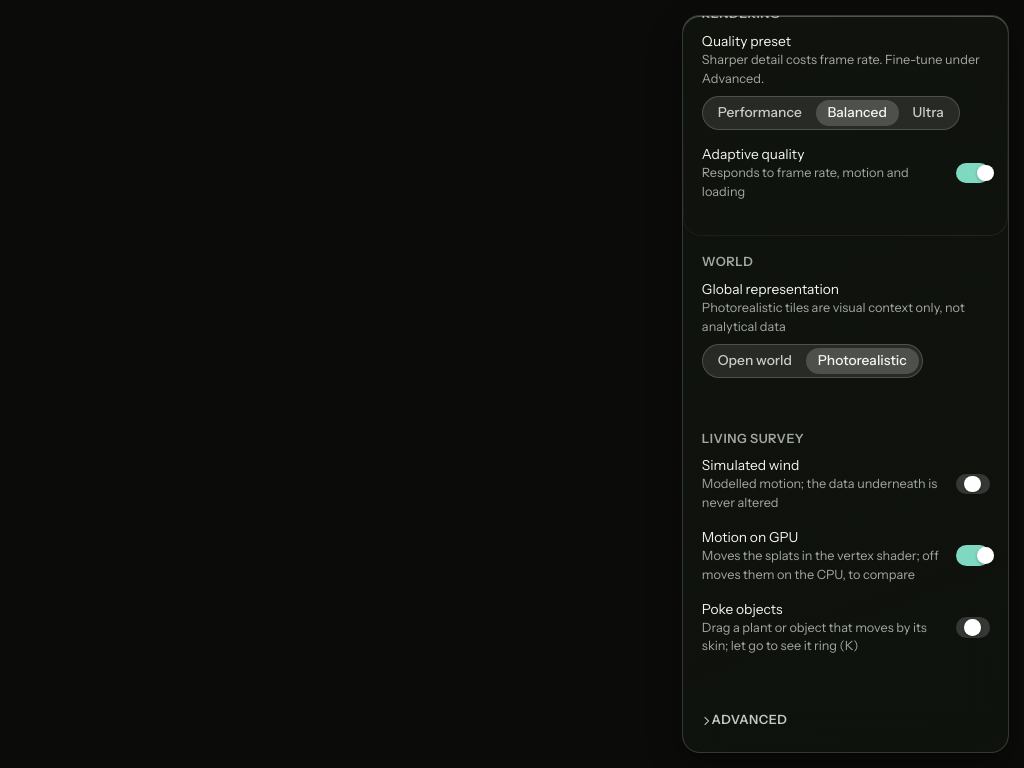
Test: Settings › Advanced › shows the renderer the page address chose, and a choice here ends it
The width and height of the screenshot is (1024, 768).
(page scrolled)
Click the heading "Advanced" at (749, 720), box [712,712,787,727]
(page scrolled)
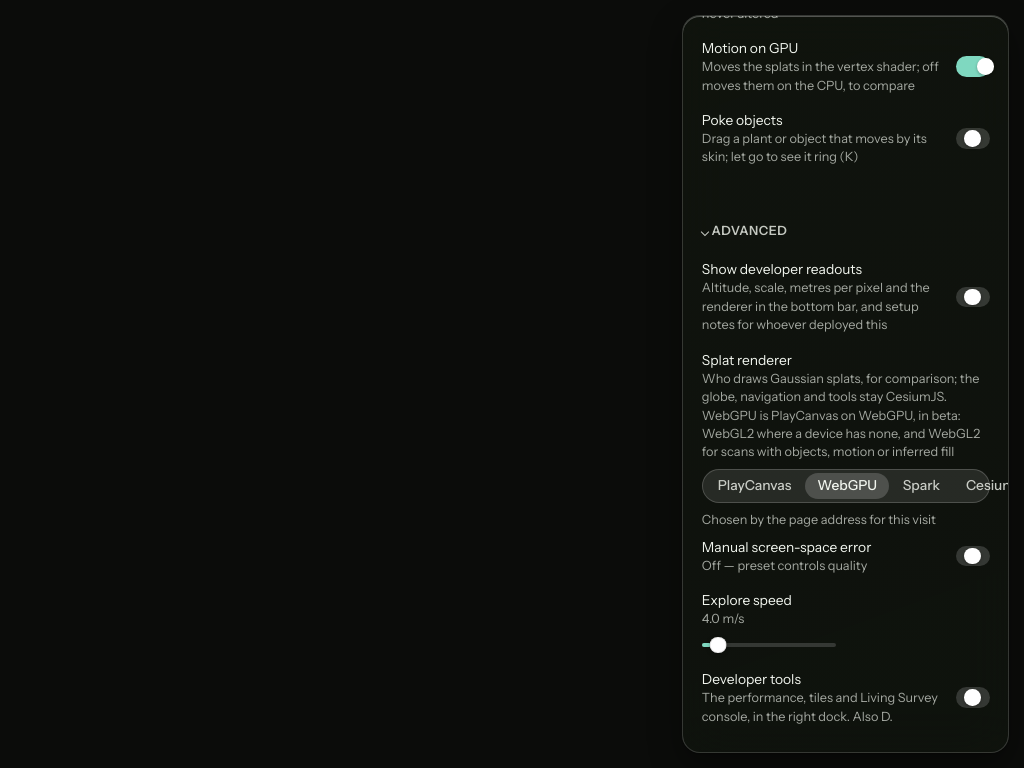
Result: the text with test id "splat-renderer-now" reads "Chosen by the page address for this visit" at [702,512,936,527]
Click the radio button with aria-label "Draw splats with PlayCanvas" at (755, 486), box [706,473,803,499]
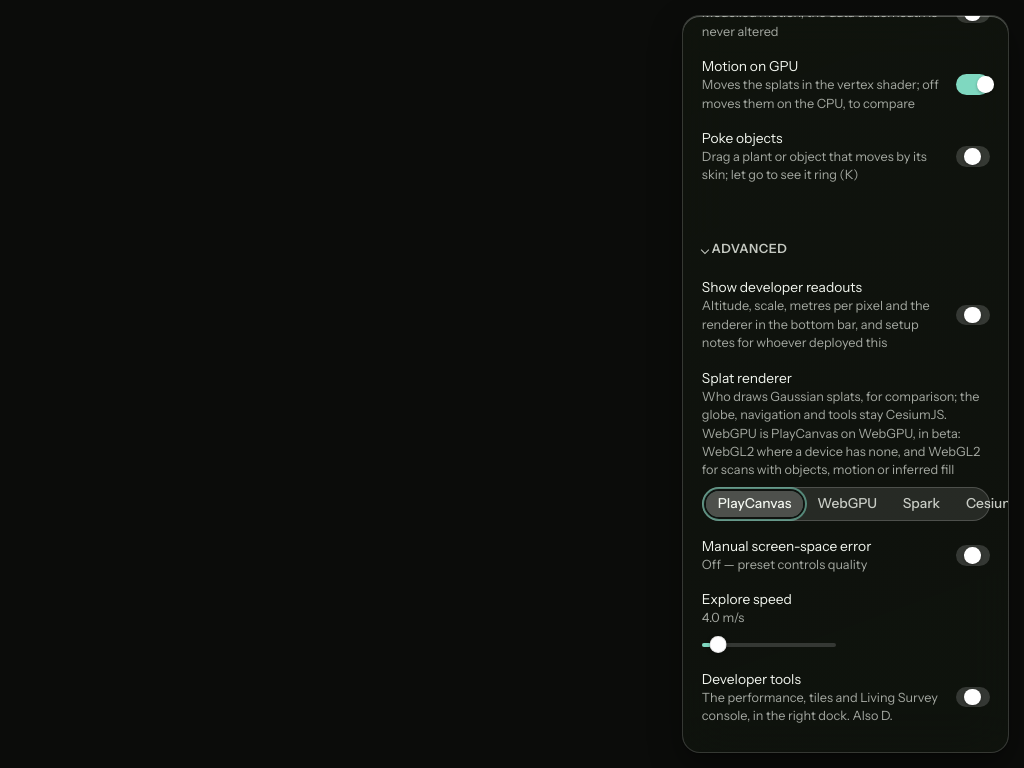
Result: the text with test id "splat-renderer-now" is gone
